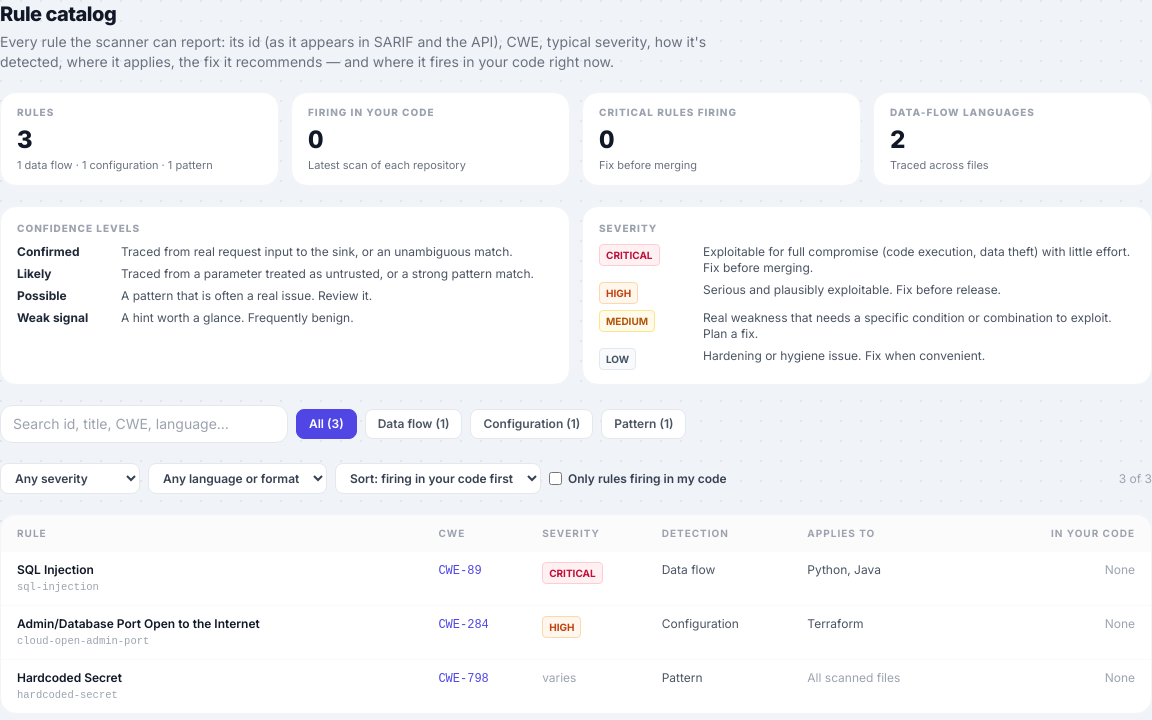
Test: Rule catalog page › lists rules, filters by detection, searches, and expands a rule's remediation
Expected: the text "SQL Injection" is shown, top-left (17, 562), bottom-right (94, 577)
Expected: the button "Data flow (1)" is shown, top-left (365, 409), bottom-right (462, 439)
Step 1. Click the button "Configuration (1)" → x=532, y=424, box top-left (470, 409), bottom-right (593, 439)
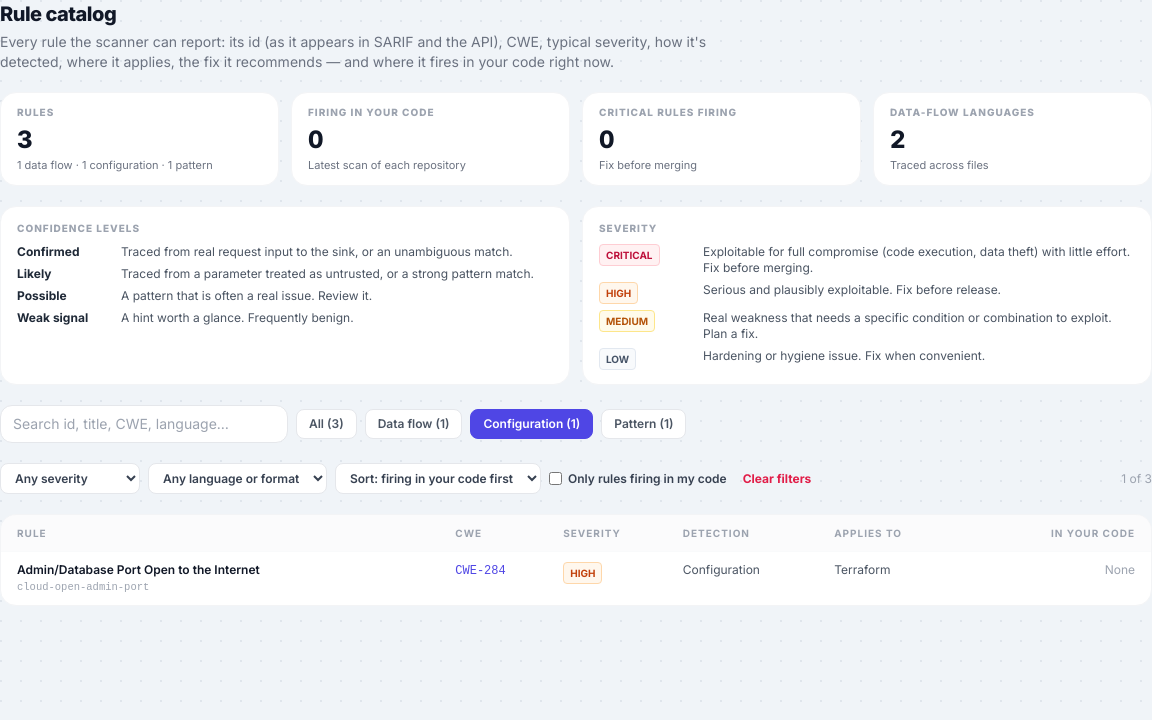
Expected: the text "Admin/Database Port Open to the Internet" is shown, top-left (17, 562), bottom-right (260, 577)
Expected: the text "SQL Injection" is gone
Step 2. Click the button "All (3)" → x=326, y=424, box top-left (296, 409), bottom-right (357, 439)
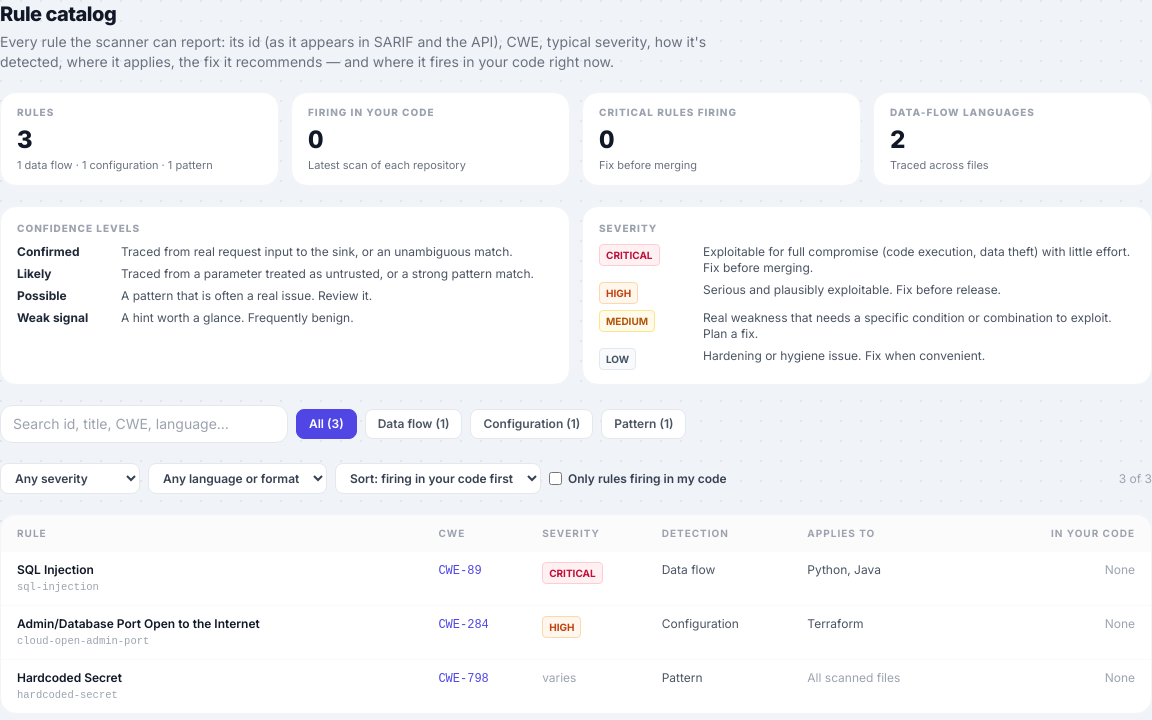
Step 3. Type "cwe-798" into the field named "Search rules" → x=144, y=424, box top-left (0, 405), bottom-right (288, 443)
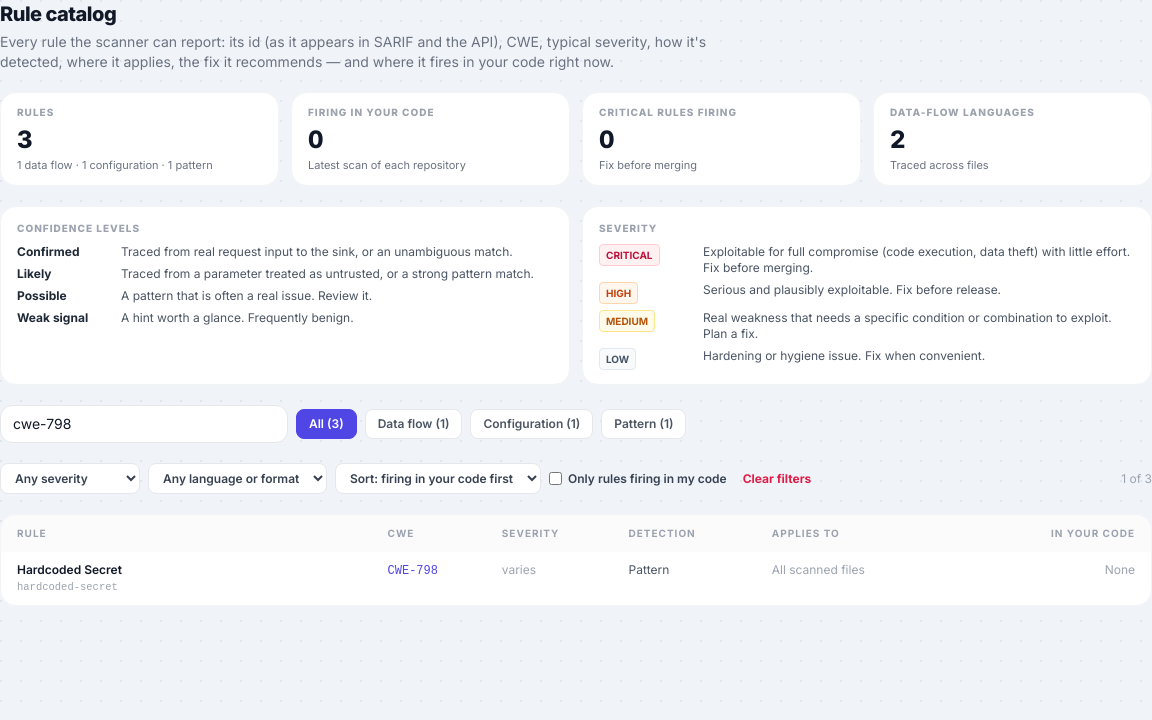
Expected: the text "Hardcoded Secret" is shown, top-left (17, 562), bottom-right (122, 577)
Expected: the text "SQL Injection" is gone
Step 4. Clear the field named "Search rules" → x=144, y=424, box top-left (0, 405), bottom-right (288, 443)
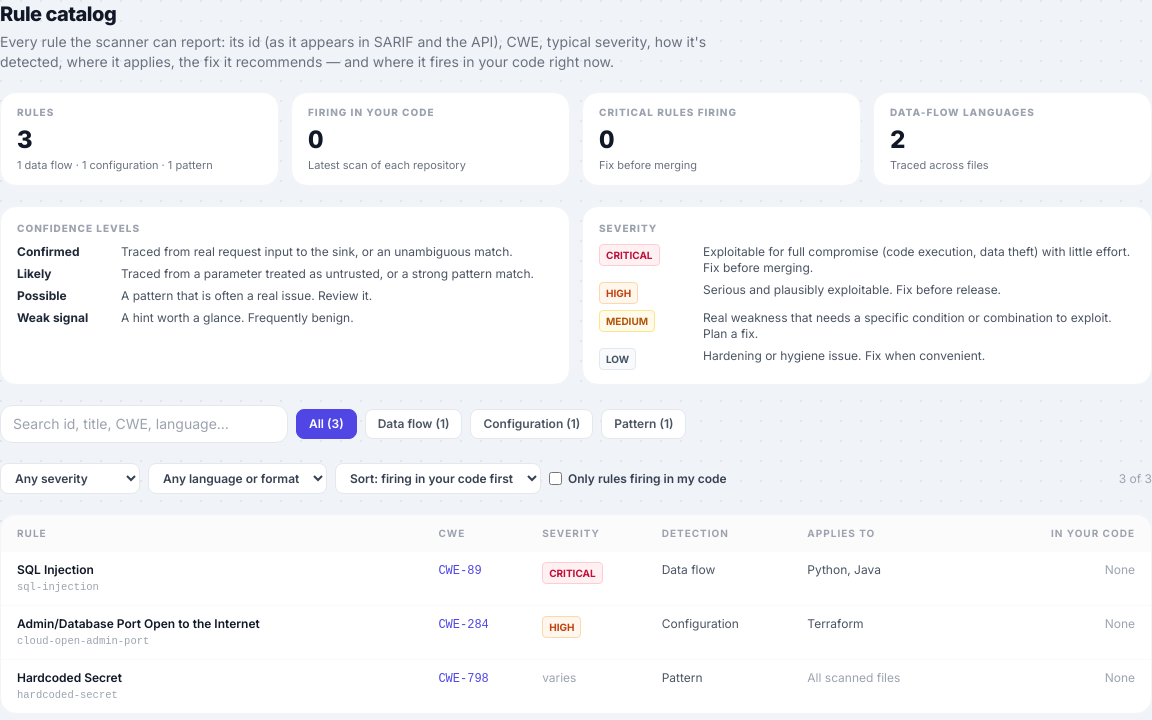
Step 5. Click the text "SQL Injection" → x=55, y=570, box top-left (17, 562), bottom-right (94, 577)
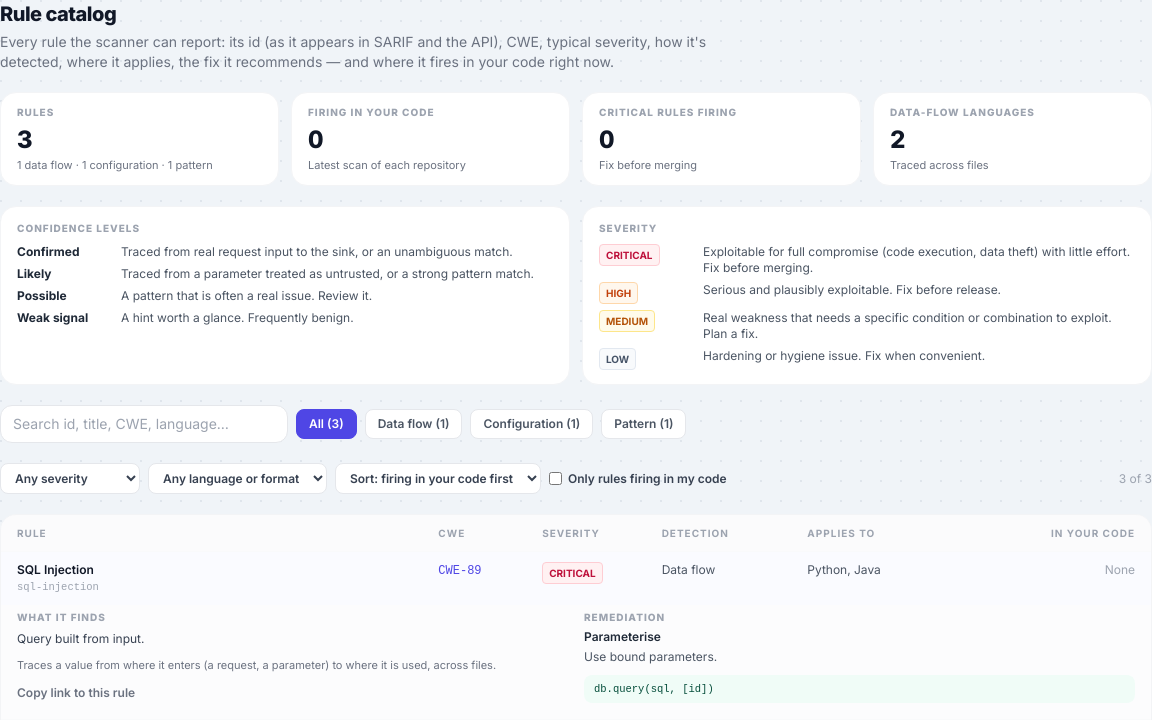
Expected: the text "Confirmed" is shown, top-left (17, 244), bottom-right (80, 259)
Expected: the text "Use bound parameters." is shown, top-left (584, 649), bottom-right (717, 664)
Expected: the text "db.query(sql, [id])" is shown, top-left (584, 675), bottom-right (1135, 703)
